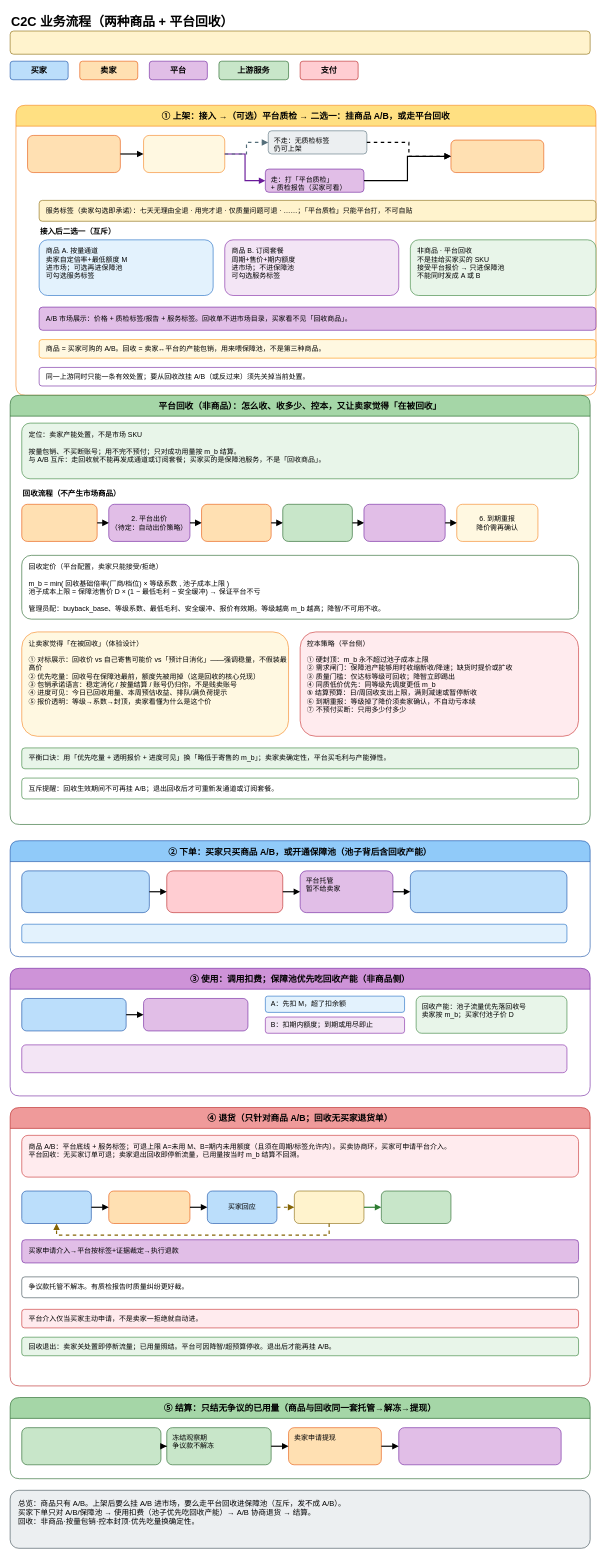
Some shapes in this 606 by 1558 pixel diagram are drawn without their labels. Each missing label, with the centre of its shape:
"1. 卖家放弃 挂 A/B，改走回收" goes at [59,522].
"3. 卖家 接受 / 放弃" goes at [236,522].
"4. 调度分配（都可卖） （待定：调度策略）" goes at [317,522].
"5. 按成功用量 × m_b 结算" goes at [404,522].
"买家只对 A/B（及保障池）下单；不存在「购买回收商品」。回收卖家收益只来自池子吃量。" goes at [294,933].
"买家申请" goes at [56,1207].
"买家看标签/报告 选商品 A 或 B 或开通保障池" goes at [85,891].
"买家调用 指定卖家或保障池" goes at [73,1014].
"协商环 可多次" goes at [329,1207].
"卖家 同意/还价/拒绝" goes at [149,1207].
"卖家接入上游 声明可卖模型" goes at [73,154].
"处置选择 挂 A/B 或 走回收" goes at [497,156].
"平台审核打款" goes at [479,1446].
"平台毛利来自：买家侧 D（或 A/B 抽佣）− 卖家侧 m_b/m_s。回收控本靠 m_b 封顶 + 吃量节奏。" goes at [294,1058].
"平台转发上游 成功则扣费结算" goes at [195,1014].
"按成功用量入账 A/B用m_s · 回收用m_b" goes at [91,1446].
"支付进托管 A 付 M / B 付套餐价 / 保障池充余额" goes at [224,891].
"是否走 平台质检" goes at [184,154].
"获得使用资格 回收卖家：等池子吃量" goes at [488,891].
"谈拢→打款" goes at [416,1207].
"钱先进平台托管；卖家只拿实际用量。买家可购商品只有 A 通道 / B 订阅套餐。平台回收不是商品，是卖家把产能包销进保障池，与 A/B 互斥、不能同时挂市场。" goes at [300,42].
